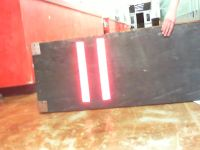switch: (96, 38, 113, 101), (75, 41, 91, 102)
